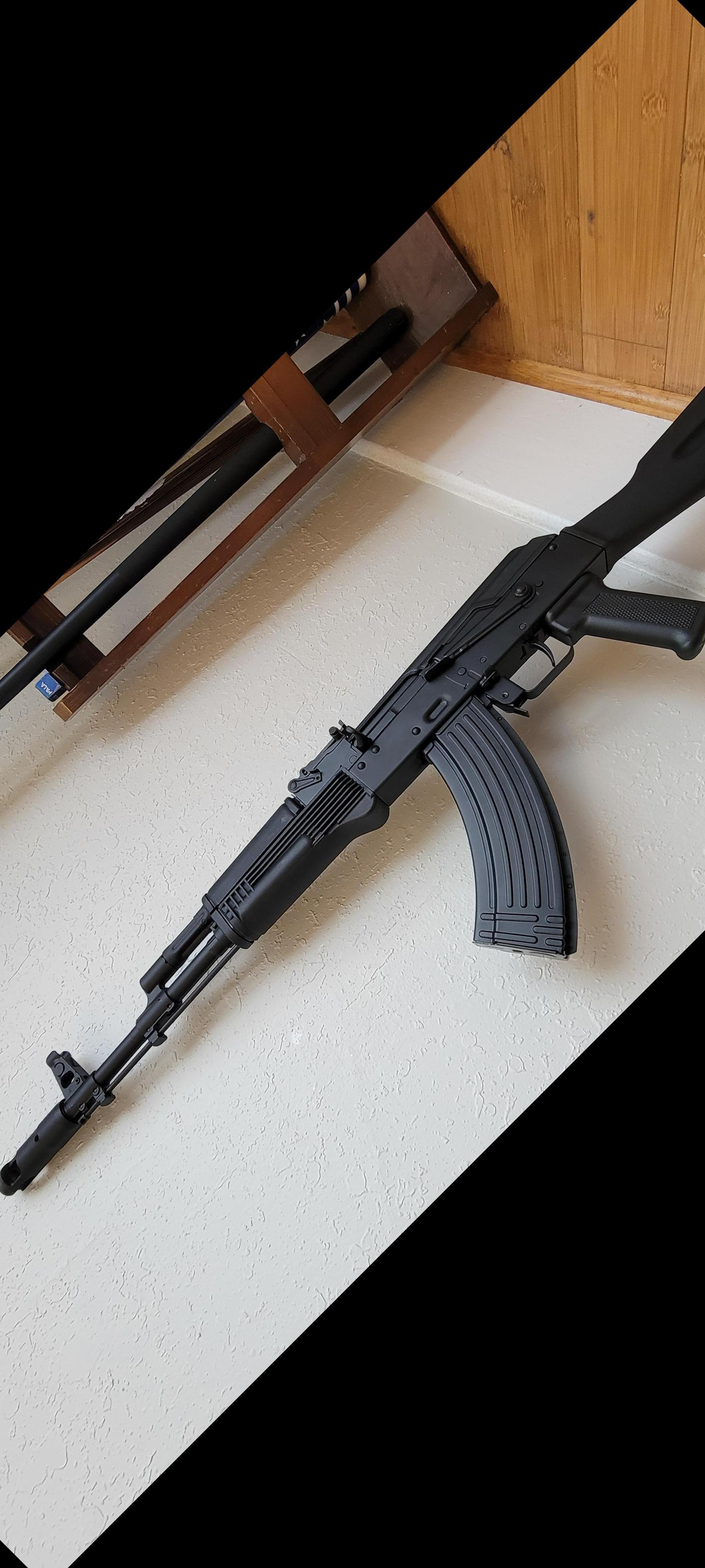larga: (0, 392, 705, 1198)
